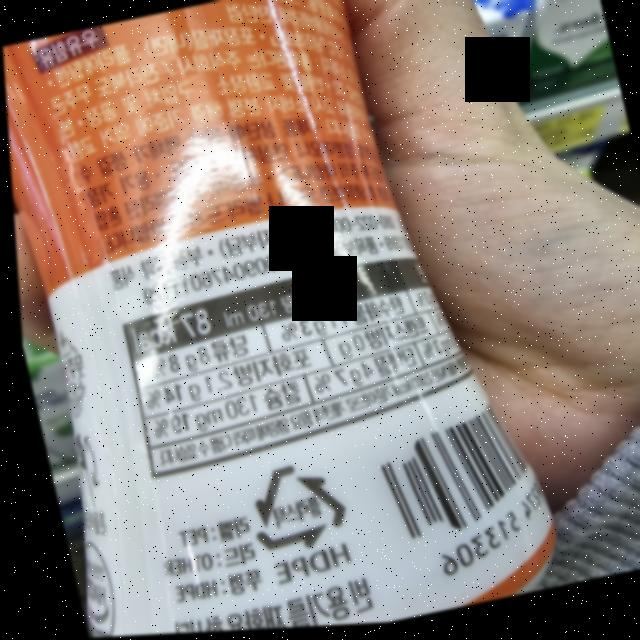Plastic: (232, 454, 349, 561)
